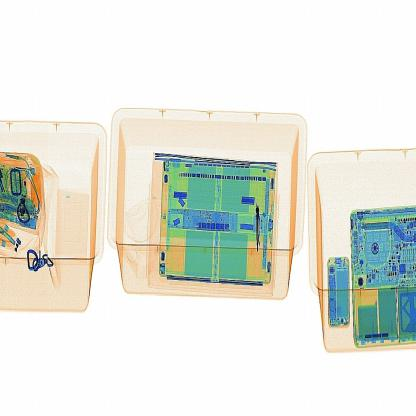knife: (243, 189, 275, 265)
